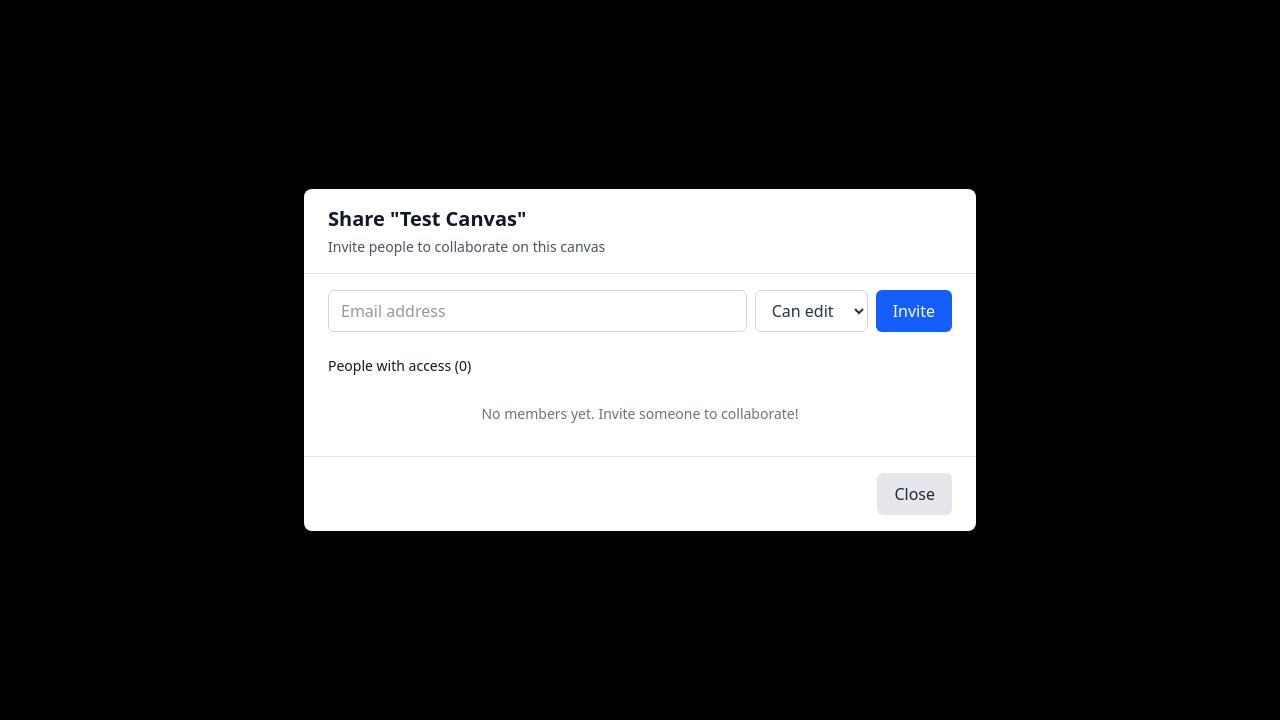
it: ShareDialog › should show error message when invite fails
Type "existing@example.com" into the field with placeholder "Email address".
click(537, 311); type("existing@example.com")  # box [328,290,747,332]
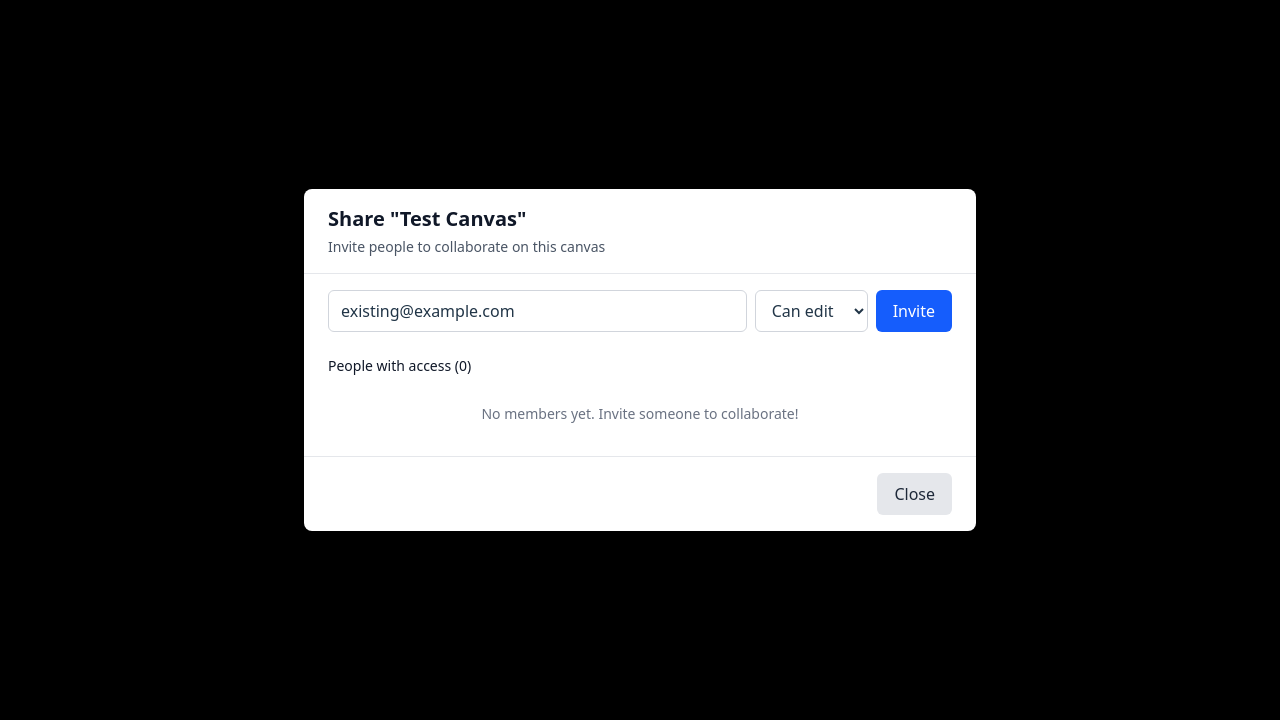
Click the button "Invite".
click(914, 311)  # box [876,290,952,332]
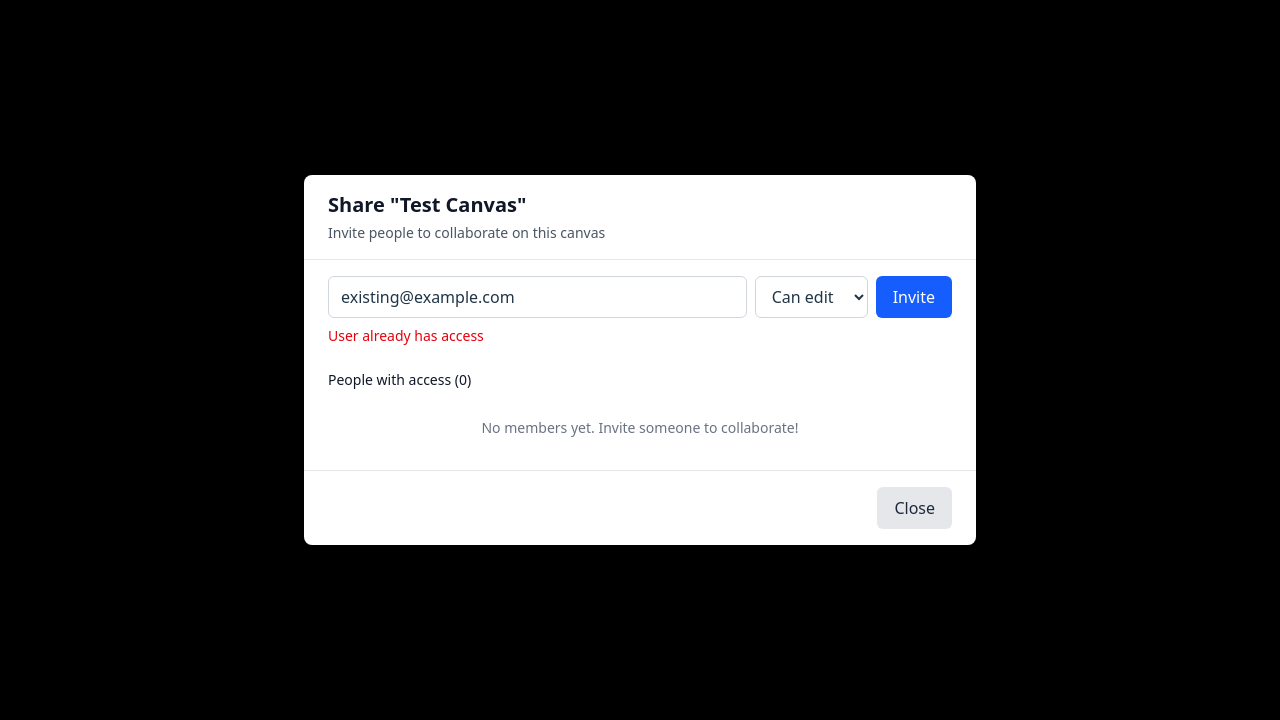
Expected: the text "User already has access" is shown, [328,326,484,345]
